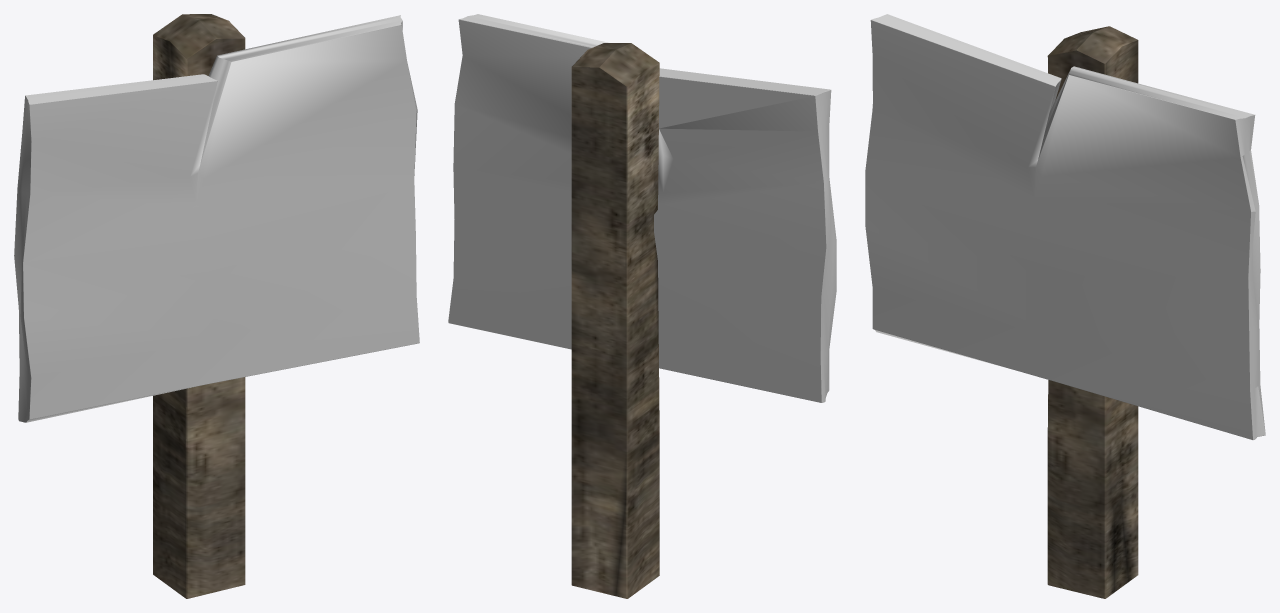
Rendered from sign.fbx.
The picture shows the model from 3 angles, left to right: view 1: azimuth 30°, elevation 25°; view 2: azimuth 150°, elevation 25°; view 3: azimuth 330°, elevation 25°; orthographic projection. The views are drawn at different scales.
Visible parts, largest first — view 1: plank_03.005, post_02.003; view 2: plank_03.005, post_02.003; view 3: plank_03.005, post_02.003.
Boxes of the visible parts, box(x1,y1,x2,y2) form: plank_03.005: box(14, 15, 419, 422); post_02.003: box(153, 14, 245, 598); plank_03.005: box(448, 14, 836, 402); post_02.003: box(571, 43, 659, 598); plank_03.005: box(865, 14, 1265, 439); post_02.003: box(1047, 26, 1138, 598).
Size of the model in its own units: 110 by 147 by 21.79.
2 materials, 1 textured.
